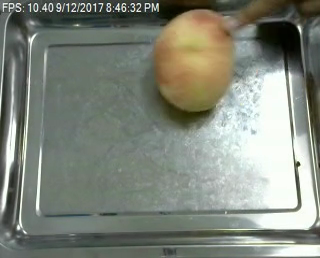Peach: (153, 9, 233, 108)
